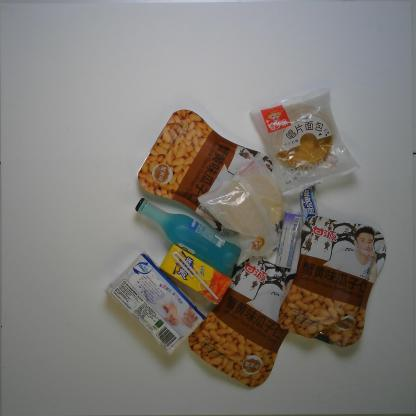Alcohol: (134, 196, 242, 270)
Candy: (274, 210, 302, 269), (296, 176, 318, 220)
Dessert: (248, 85, 363, 197), (196, 151, 286, 267)
Dried Fruit: (136, 106, 272, 236), (187, 258, 307, 390), (279, 216, 389, 349)
Drink: (158, 242, 234, 305)
Tissue: (102, 250, 209, 356)
